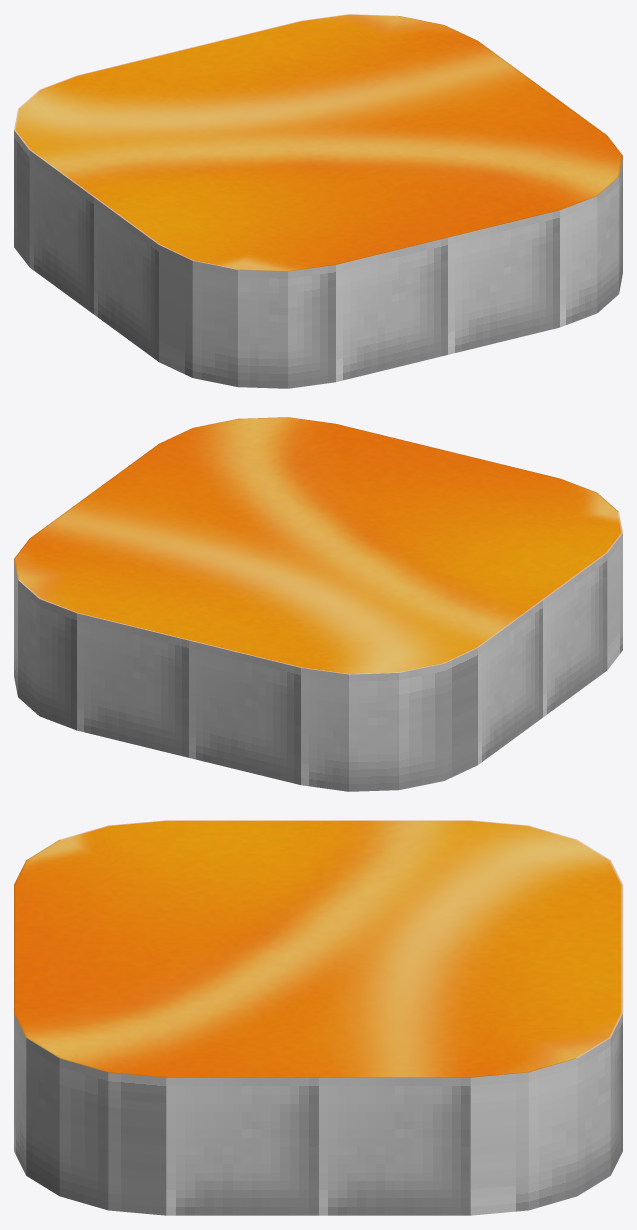
Rendered from FadePlatform.fbx.
3 renders of one model, top to bottom at view 1: azimuth 30°, elevation 25°; view 2: azimuth 150°, elevation 25°; view 3: azimuth 270°, elevation 25°, orthographic. The views are drawn at different scales.
Visible parts, largest first — view 1: Circle#2; view 2: Circle#2; view 3: Circle#2.
Boxes of the visible parts, x1,y1,x2,y2 form: Circle#2: [14, 14, 622, 388]; Circle#2: [14, 417, 622, 791]; Circle#2: [14, 820, 622, 1215].
Bounding box in the file's own units: 2 × 0.875 × 2.
Materials: 3 (3 with a texture image).
